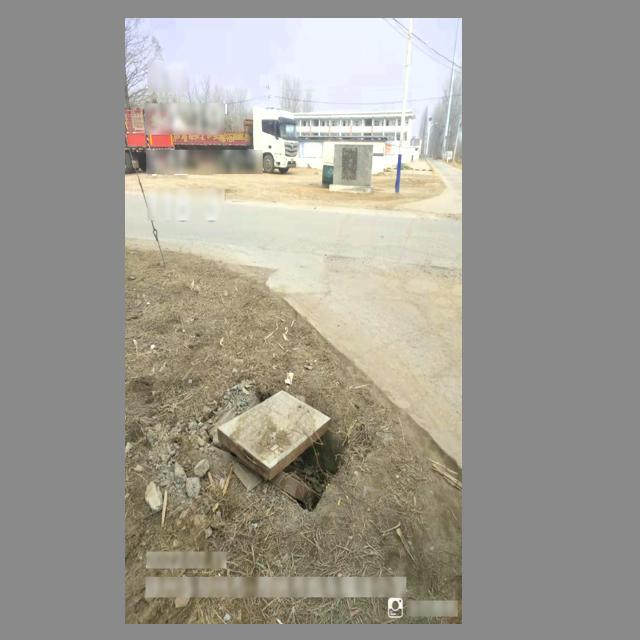circle: (199, 376, 356, 522)
